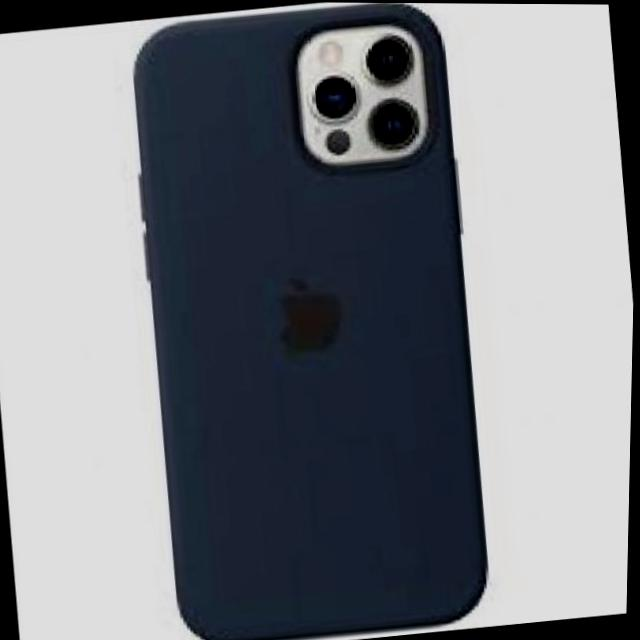Smartphone: (120, 1, 505, 640)
